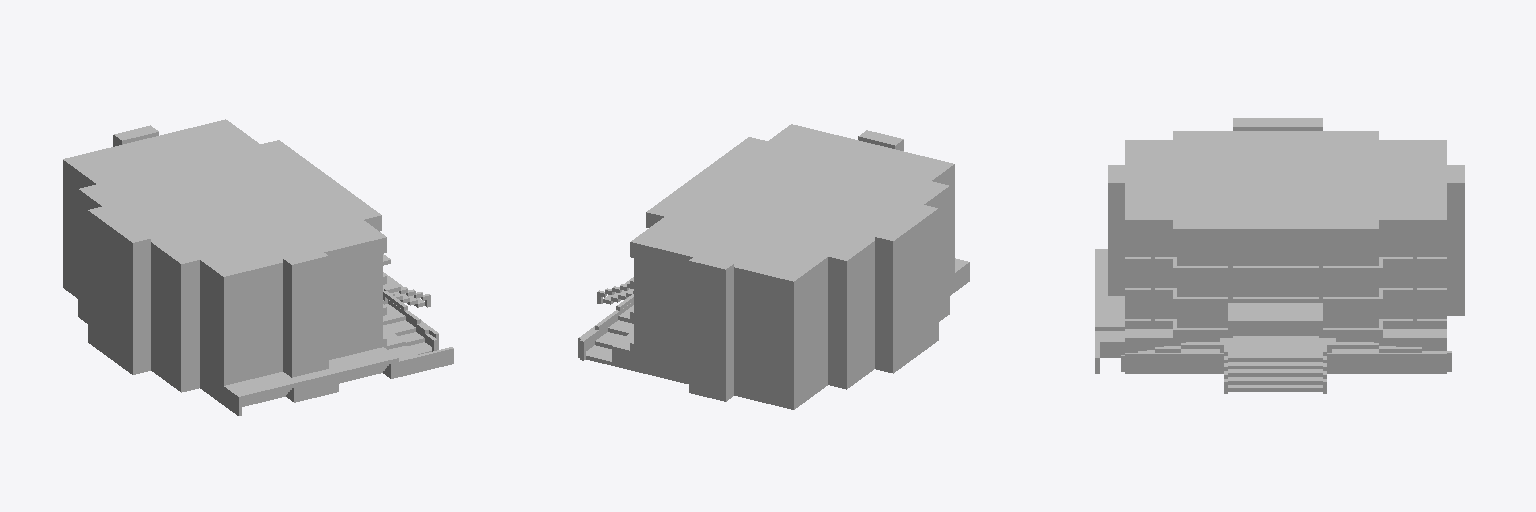
Rendered from Predio A-0.obj.
The picture shows the model from 3 angles: view 1: azimuth 30°, elevation 25°; view 2: azimuth 150°, elevation 25°; view 3: azimuth 270°, elevation 25°; orthographic projection.
Visible parts, largest first — view 1: object 1; view 2: object 1; view 3: object 1.
Boxes of the visible parts, box(x1,y1,x2,y2) form: object 1: box(63, 119, 453, 415); object 1: box(578, 124, 969, 409); object 1: box(1095, 118, 1464, 393).
Size of the model in its own units: 7.9 by 3.4 by 8.6.